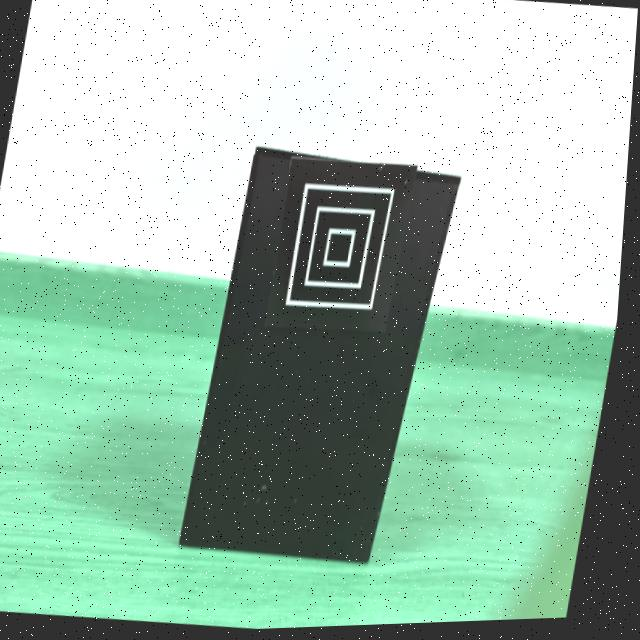BULLSEYE: (270, 156, 421, 337)
